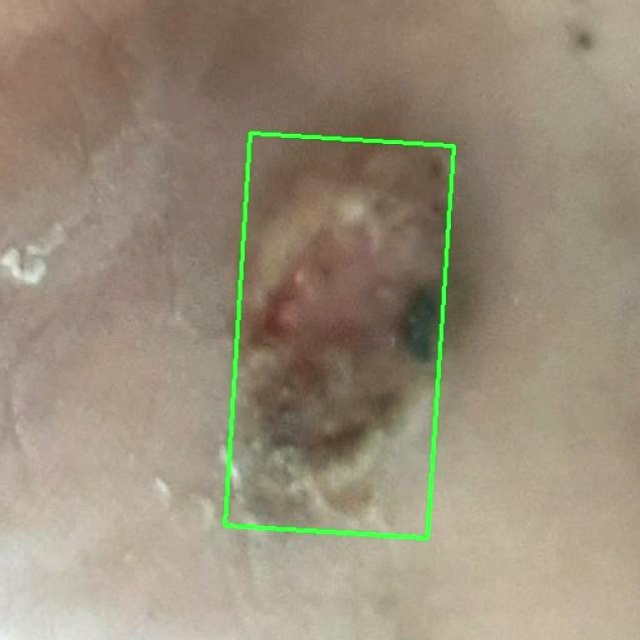Eczema: (224, 132, 452, 537)
